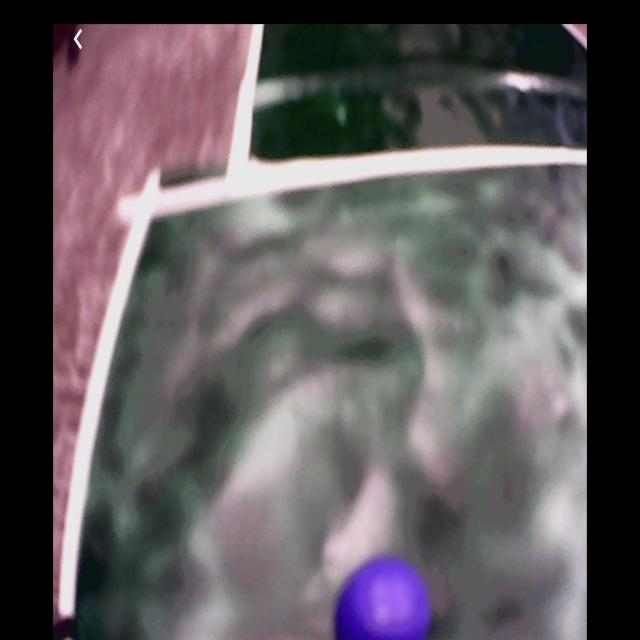ball: (334, 555, 438, 640)
